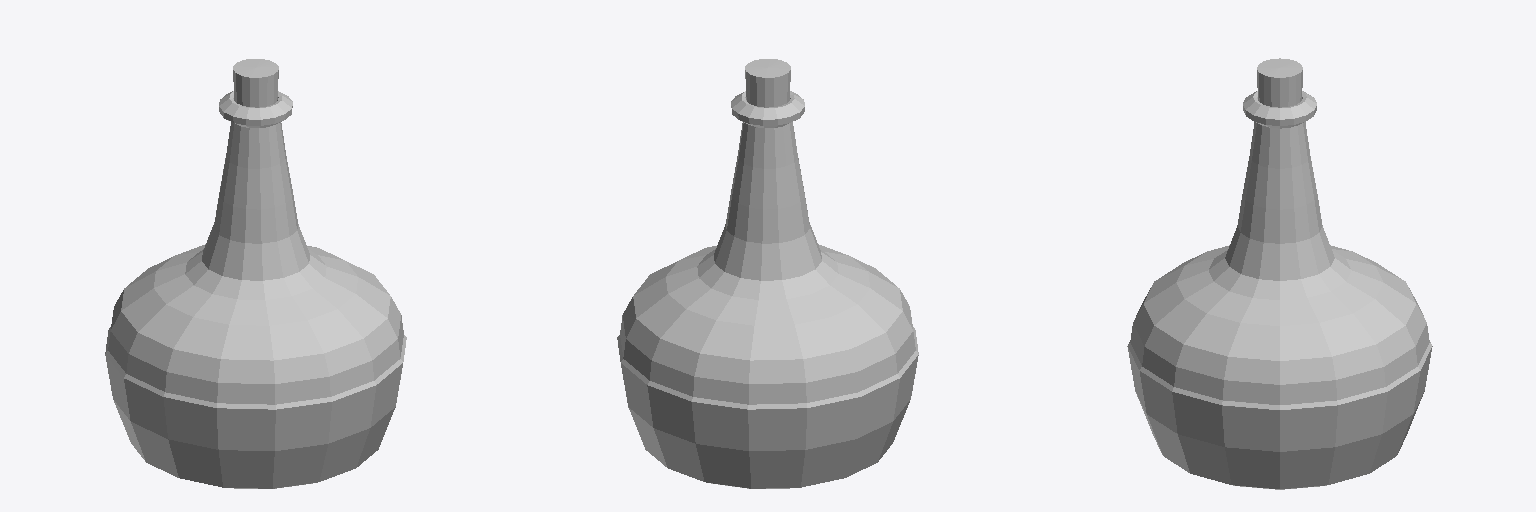
File: bottleShort.obj
The picture shows the model from 3 angles: view 1: azimuth 30°, elevation 25°; view 2: azimuth 150°, elevation 25°; view 3: azimuth 270°, elevation 25°; orthographic projection.
Parts seen in each view (by area): view 1: trn_BottleShort; view 2: trn_BottleShort; view 3: trn_BottleShort.
Boxes of the visible parts, x1,y1,x2,y2 form: trn_BottleShort: [105, 59, 406, 488]; trn_BottleShort: [617, 59, 918, 488]; trn_BottleShort: [1127, 58, 1432, 489].
Size of the model in its own units: 0.7095 by 0.9661 by 0.7095.